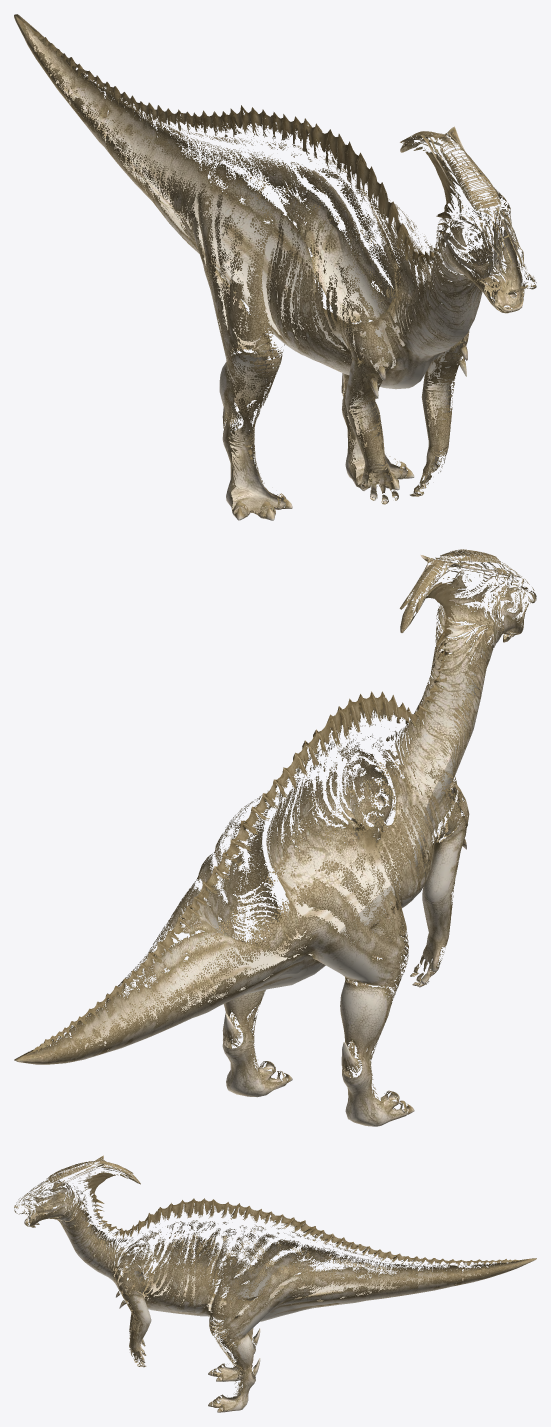
The model's file is duckbill.glb.
3 views of the same model, one above another, from view 1: azimuth 30°, elevation 25°; view 2: azimuth 150°, elevation 25°; view 3: azimuth 270°, elevation 25° (orthographic). The views are drawn at different scales.
Size of the model in its own units: 3.9 by 9.52 by 19.46.
Materials: 1 (1 with a texture image).
